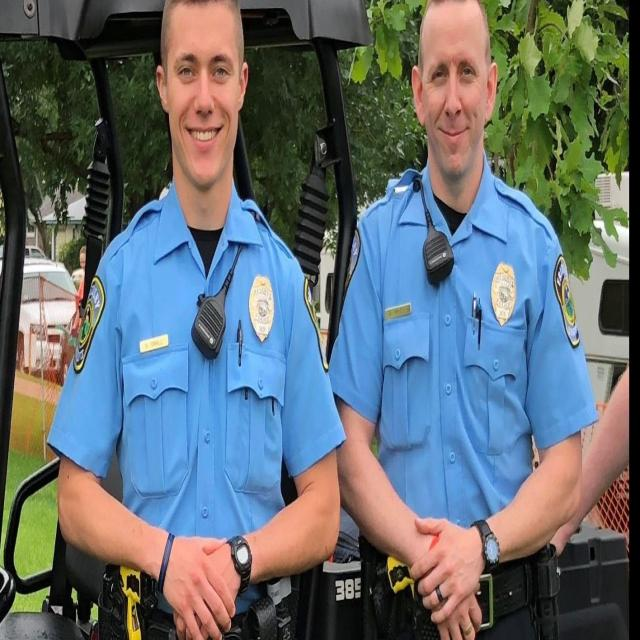police: (57, 0, 317, 640), (338, 0, 576, 640)
